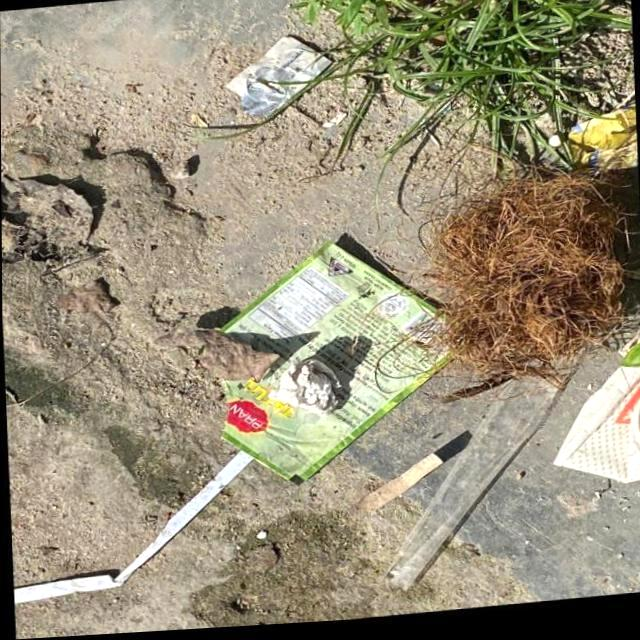packet: (211, 220, 464, 492)
